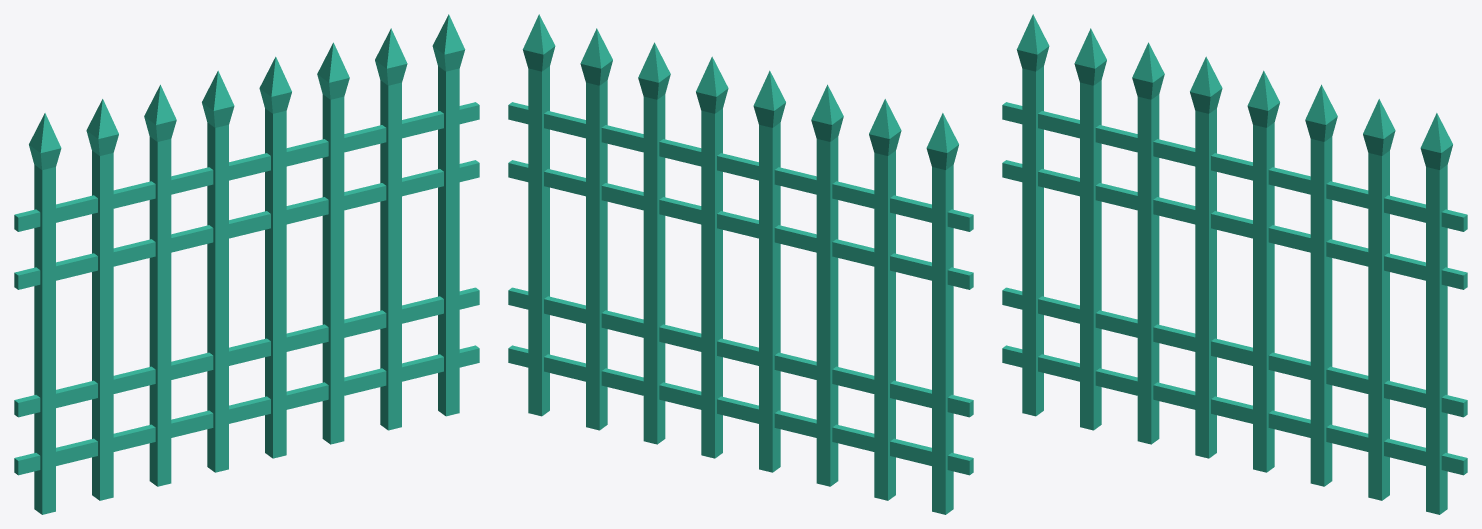
Rendered from ironFence.obj.
The picture shows the model from 3 angles, left to right: view 1: azimuth 30°, elevation 25°; view 2: azimuth 150°, elevation 25°; view 3: azimuth 330°, elevation 25°; orthographic projection.
Visible parts, largest first — view 1: ironFence; view 2: ironFence; view 3: ironFence.
Boxes of the visible parts, x1,y1,x2,y2 form: ironFence: (14, 14, 479, 514); ironFence: (508, 14, 973, 514); ironFence: (1002, 14, 1467, 514).
Bounding box in the file's own units: 1 × 0.8239 × 0.045.
